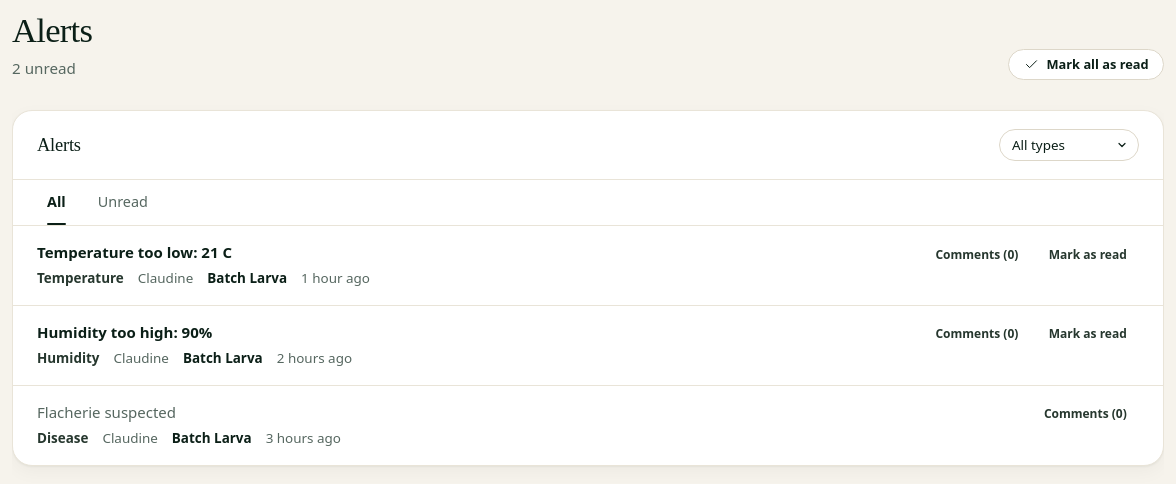
Alerts page › filters by type
Expected: the text "Humidity too high: 90%" is shown, [37,322,212,342]
Select "Humidity" in the dropdown named "Type" at (1069, 145), box [999,129,1139,161]
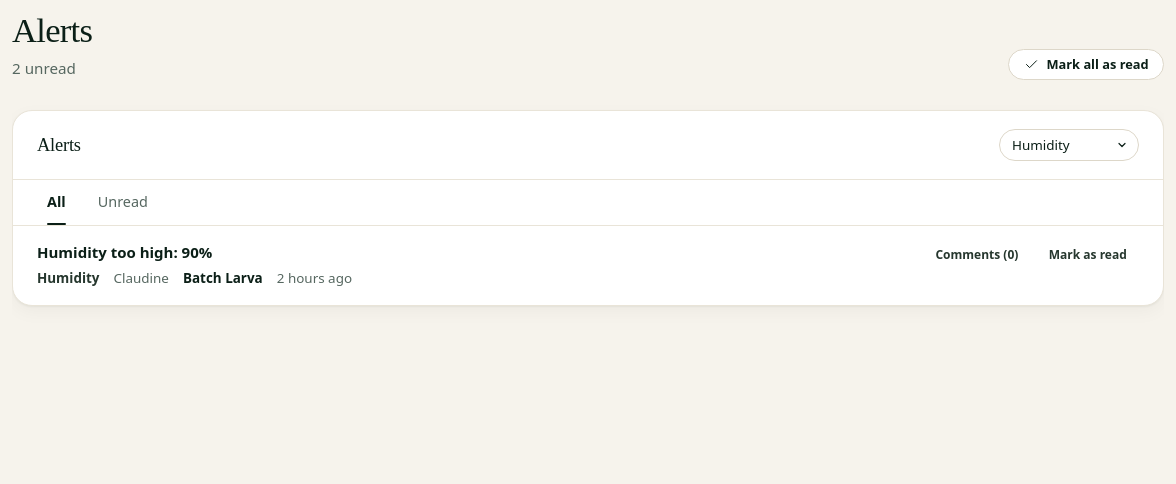
Expected: the text "Humidity too high: 90%" is shown, [37,242,212,262]
Expected: the text "Flacherie suspected" is gone
